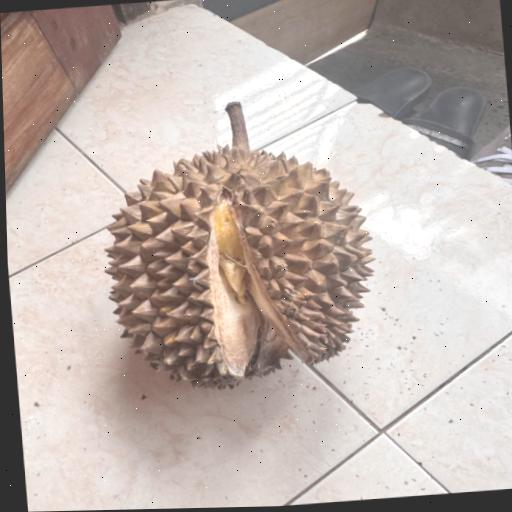rot: (64, 84, 407, 417)
